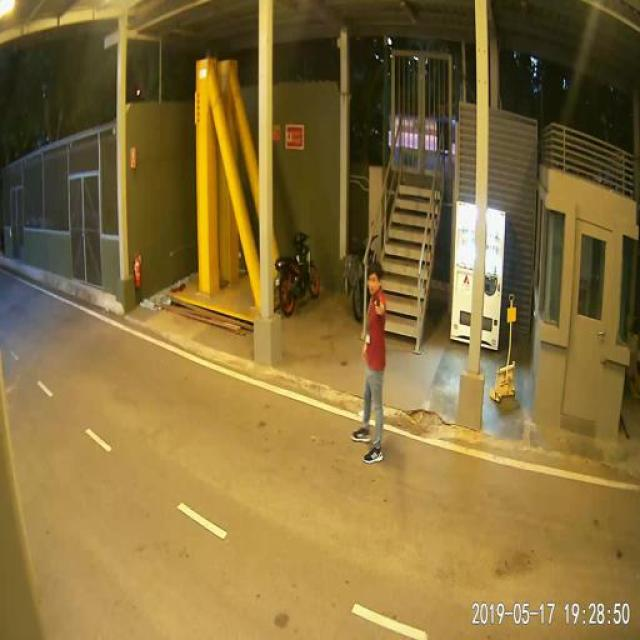Gun: (358, 293, 393, 322)
